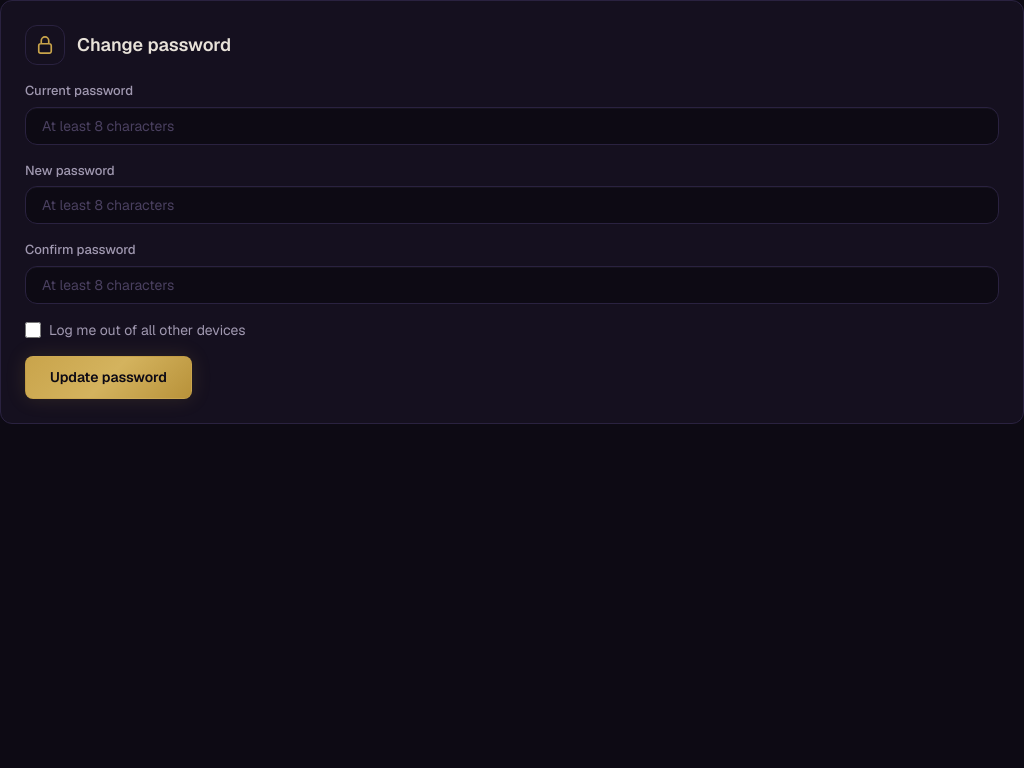
Test: ChangePasswordSettings › surfaces a server-side error
Type "OldPass123!" into the password field labelled "Current password" at (512, 126), box [25, 106, 999, 145]
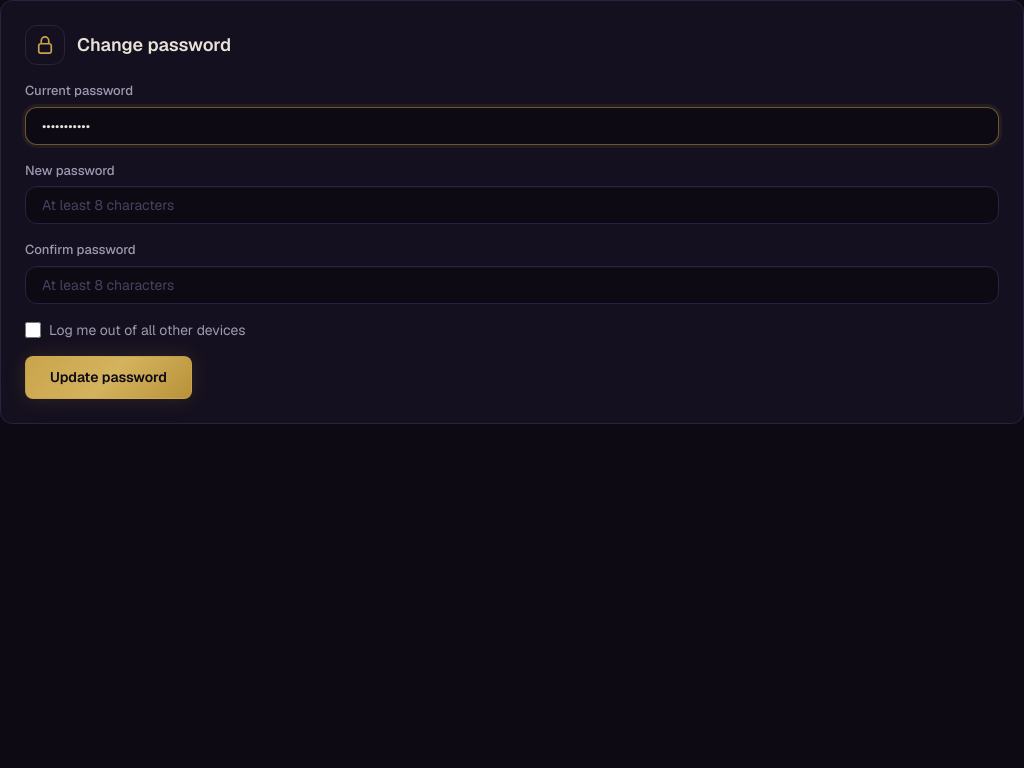
Type "NewPass123!" into the password field labelled "New password" at (512, 205), box [25, 186, 999, 224]
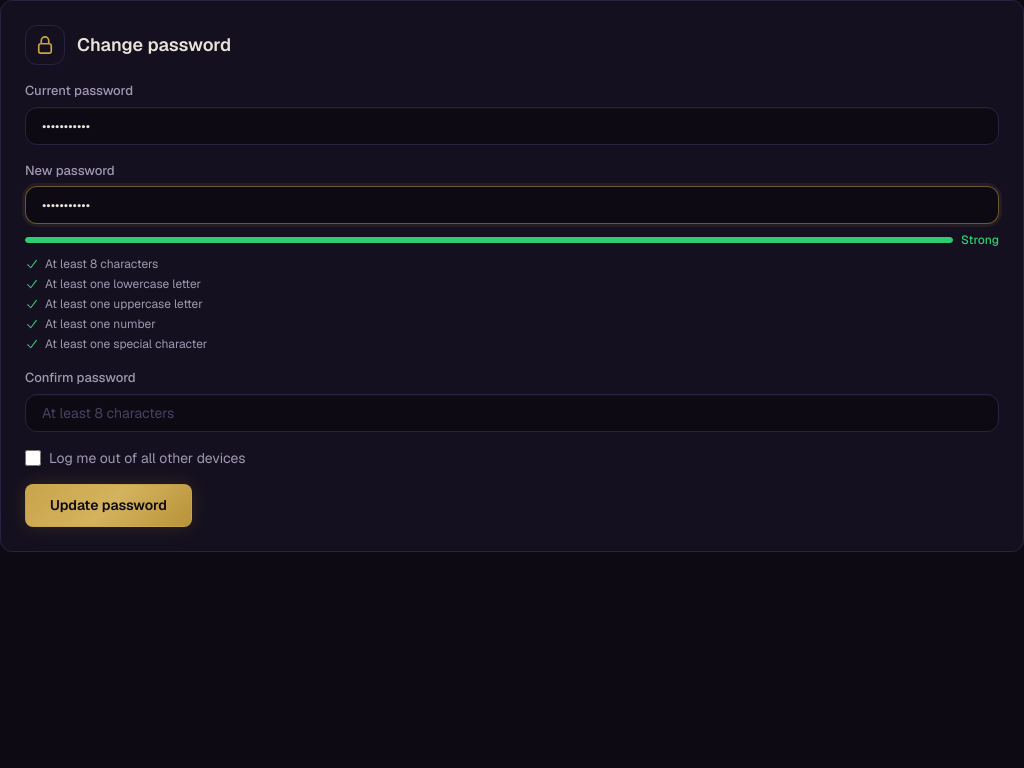
Type "NewPass123!" into the password field labelled "Confirm password" at (512, 413), box [25, 394, 999, 432]
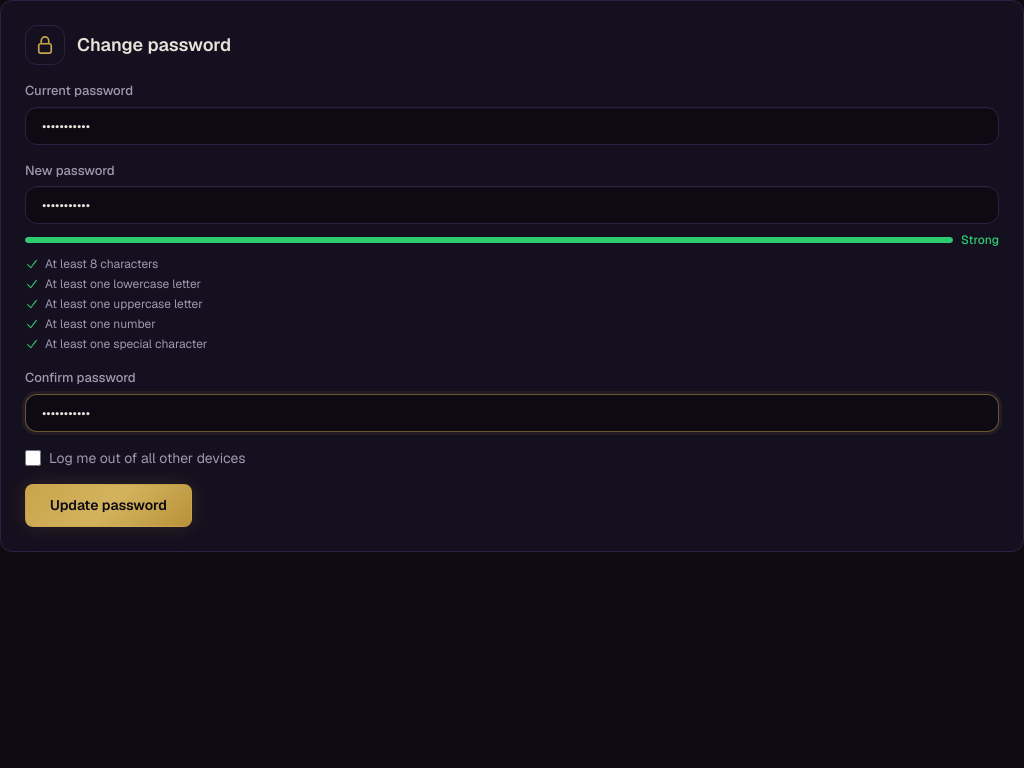
Click the button "Update password" at (108, 505), box [25, 484, 192, 527]
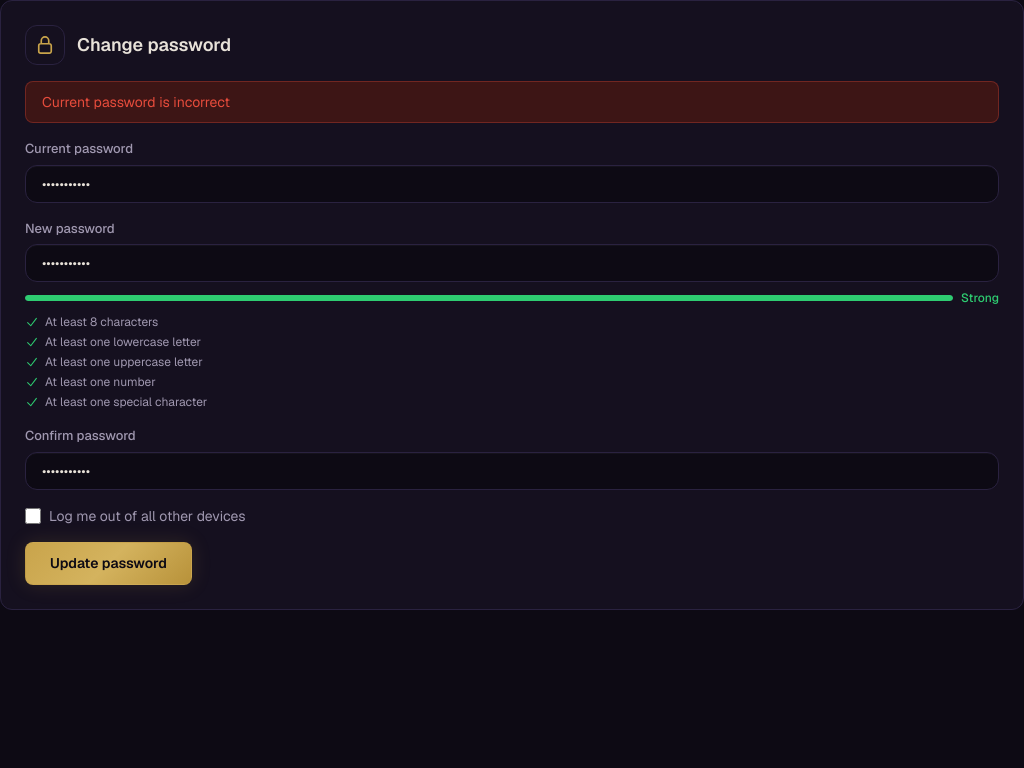
Check: the text "Current password is incorrect" is shown, box [25, 81, 999, 123]
